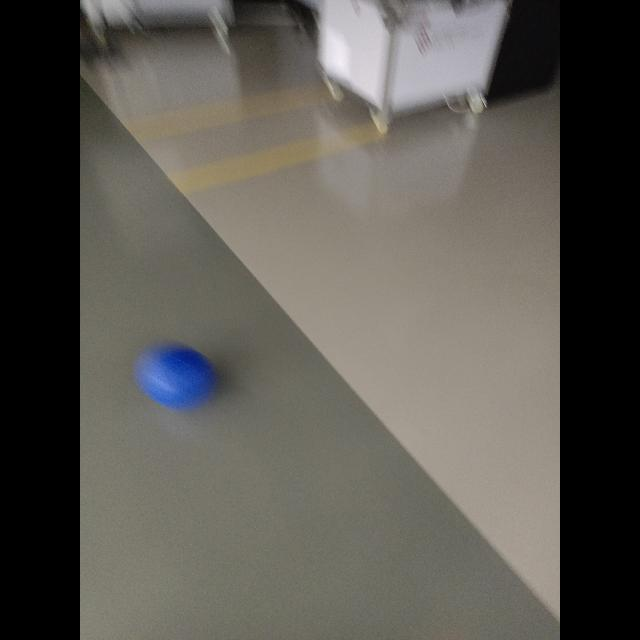B: (134, 342, 218, 412)
